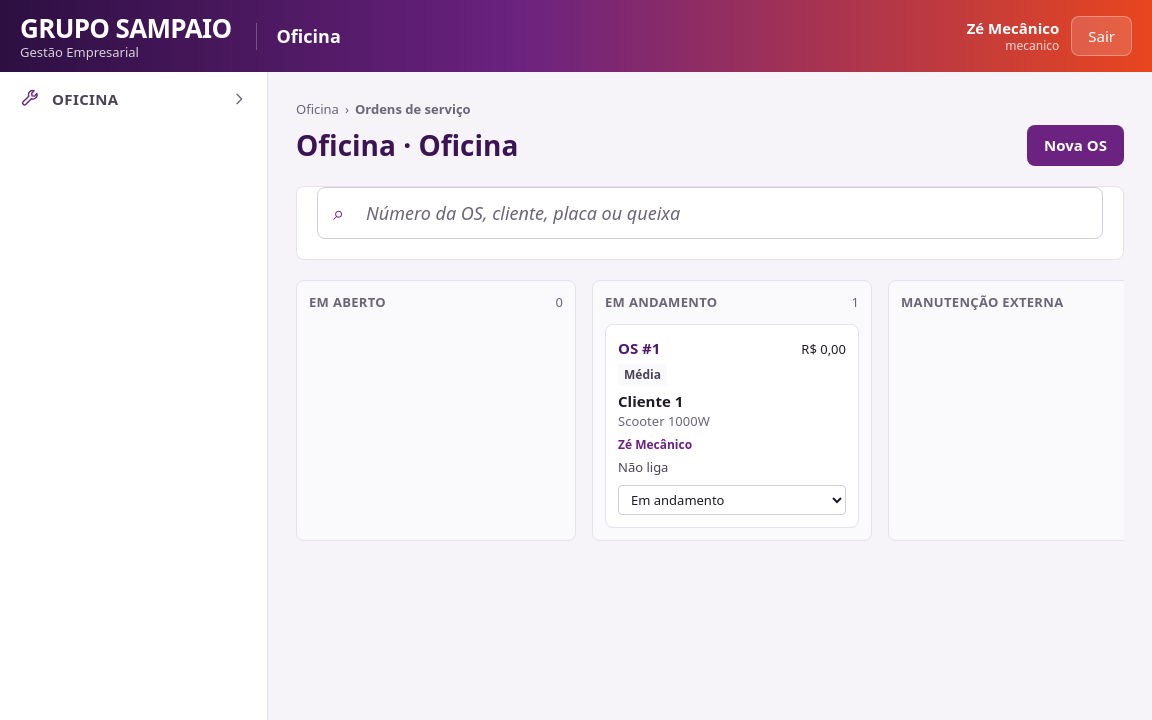
Scenario: o quadro não anda calado › cancelar descarta o movimento — o card fica onde estava
The image size is (1152, 720).
Expected: the link "OS #1" is shown, [618,337,660,360]
Select "Parada no setor" in the dropdown named "Situação da OS 1" at (732, 500), box [618,485,846,515]
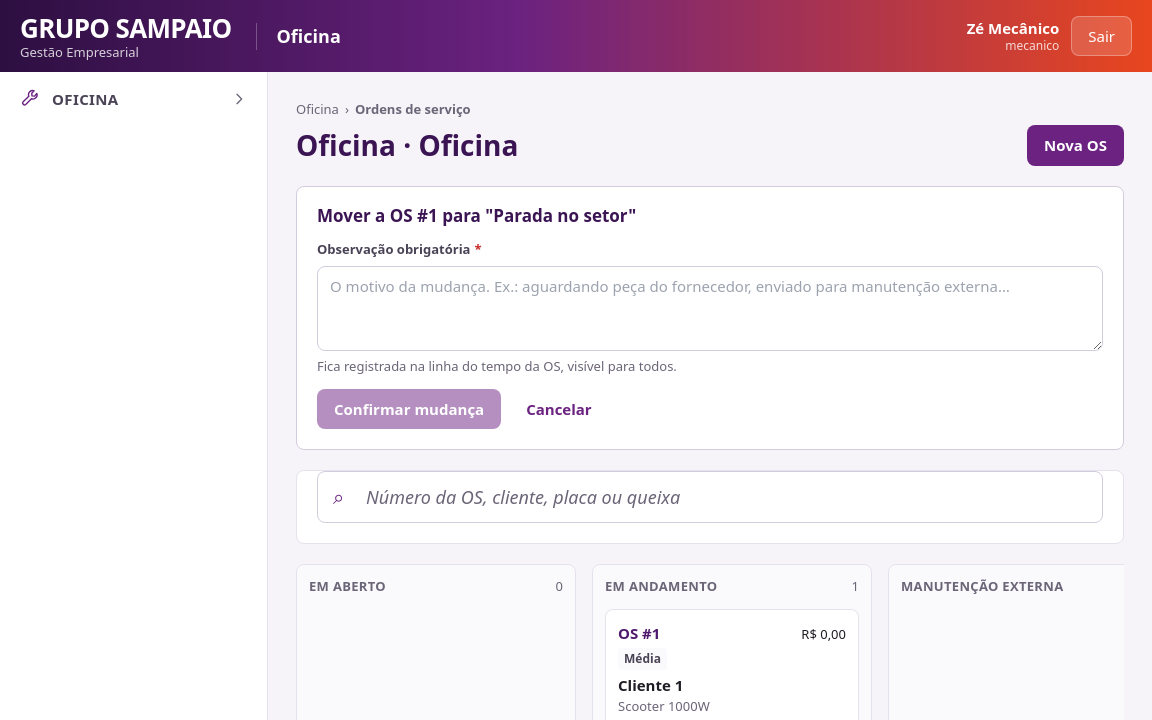
Now the heading "Mover a OS #1 para \"Parada no setor\"" is shown, box [317,202,636,228]
Click the button "Cancelar" at (559, 409), box [509,388,609,429]
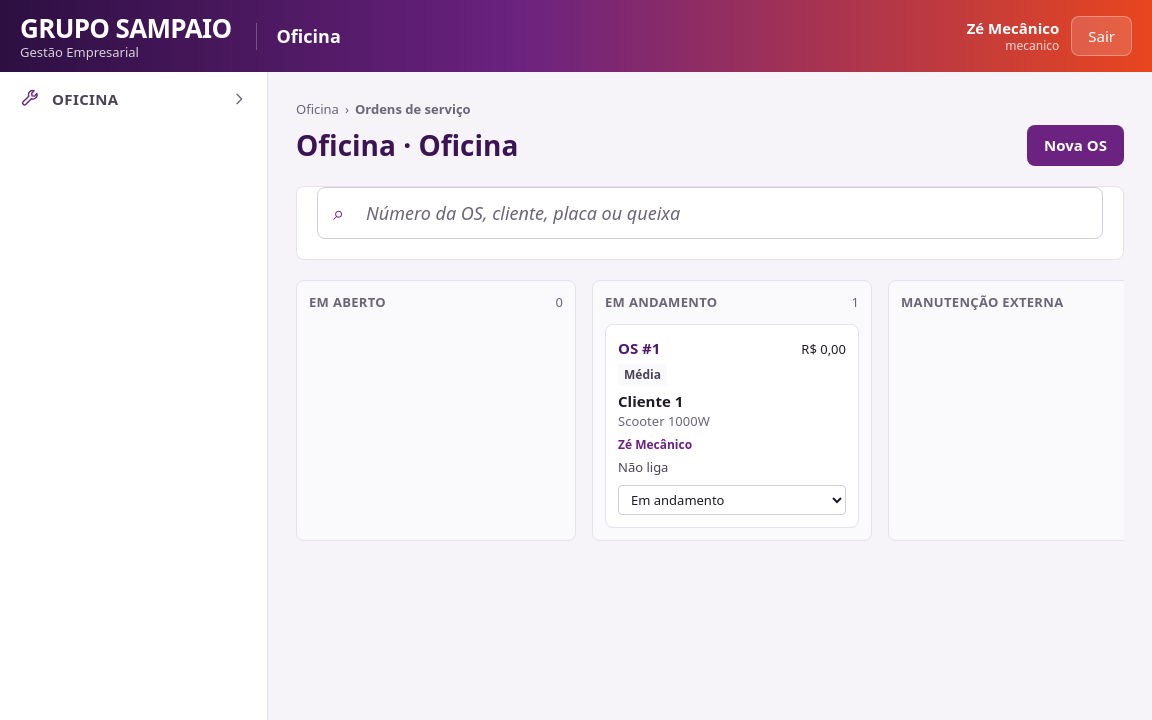
Now the heading "Mover a OS #1" is gone
